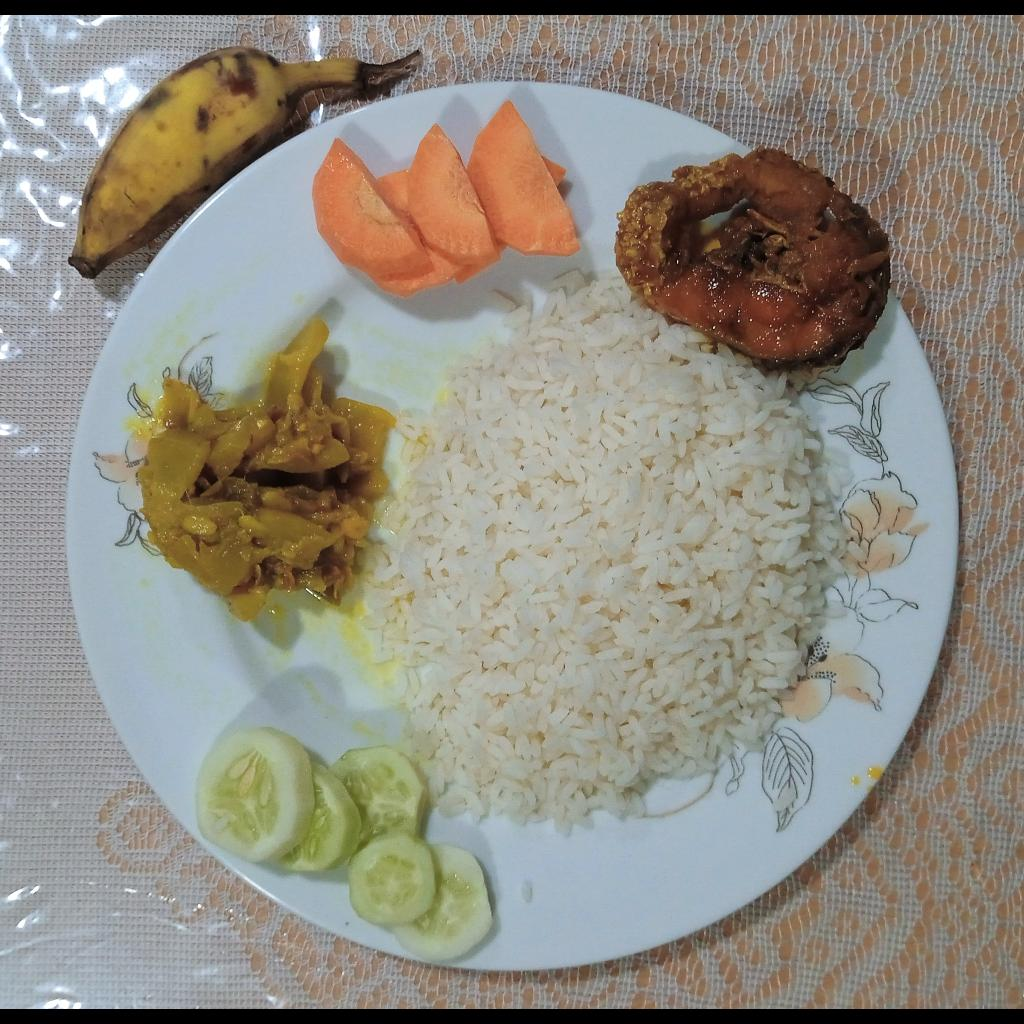banana: (67, 45, 424, 282)
carrot: (313, 99, 582, 299)
cucumber: (195, 727, 493, 962)
fish: (616, 148, 891, 363)
lau: (133, 322, 396, 627)
rice: (361, 278, 846, 826)
